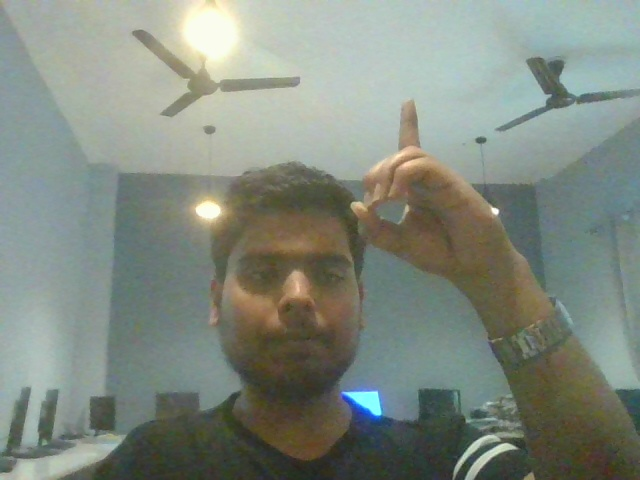D: (324, 86, 538, 291)
